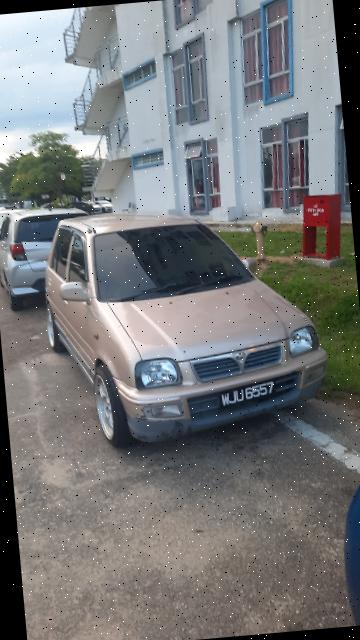License_Plate: (218, 380, 288, 410)
car: (36, 194, 336, 454)
